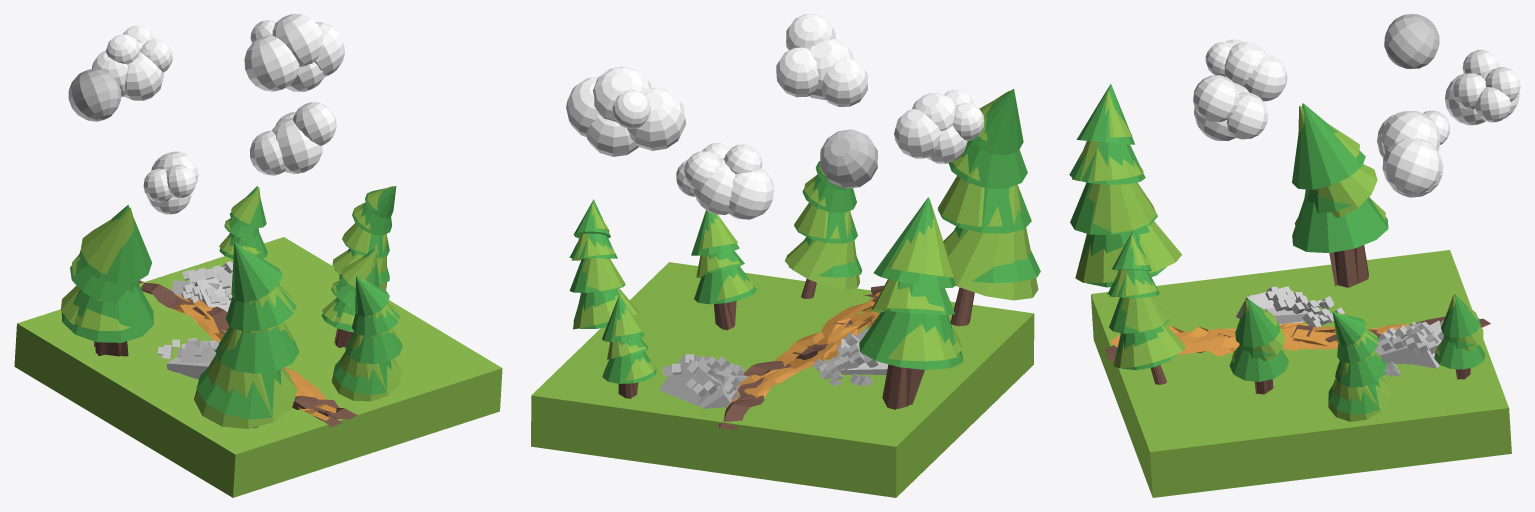
The model's file is tree2.obj.
3 renders of one model, left to right at view 1: azimuth 30°, elevation 25°; view 2: azimuth 150°, elevation 25°; view 3: azimuth 270°, elevation 25°, orthographic. The views are drawn at different scales.
Bounding box in the file's own units: 3.52 × 3.17 × 3.79.
